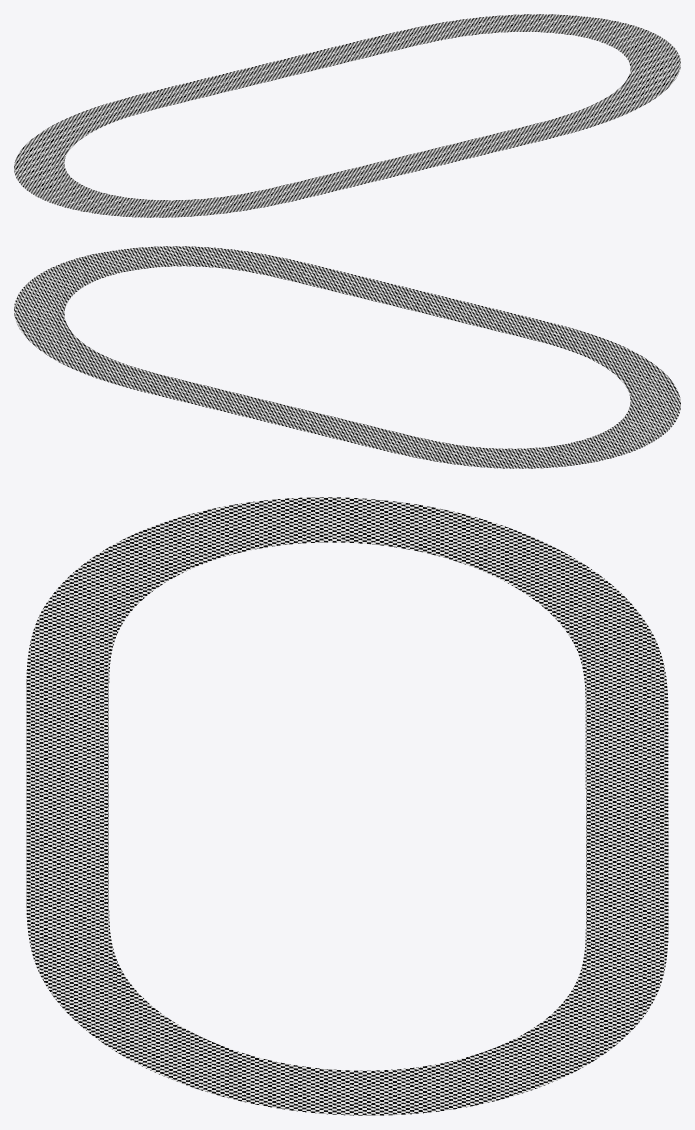
Rendered from circ1_road_highpoly.FBX.
3 views of the same model, one above another, from view 1: azimuth 30°, elevation 25°; view 2: azimuth 150°, elevation 25°; view 3: azimuth 270°, elevation 25° (orthographic). The views are drawn at different scales.
Parts seen in each view (by area): view 1: circ01_road; view 2: circ01_road; view 3: circ01_road.
Boxes of the visible parts, x1,y1,x2,y2 form: circ01_road: [14, 14, 680, 217]; circ01_road: [14, 246, 680, 468]; circ01_road: [26, 497, 668, 1115].
Size of the model in its own units: 353278 by 6503 by 155221.
Materials: 1 (1 with a texture image).
